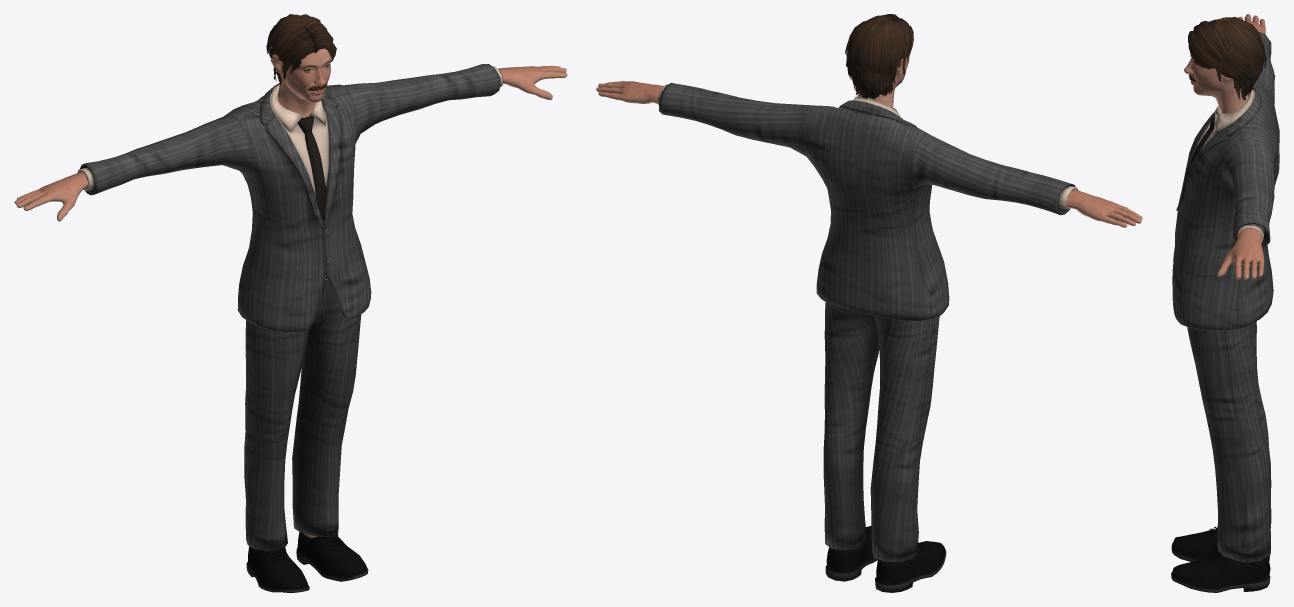
File: poe2.obj
3 renders of one model, left to right at view 1: azimuth 30°, elevation 25°; view 2: azimuth 150°, elevation 25°; view 3: azimuth 270°, elevation 25°, orthographic.
Visible parts, largest first — view 1: Tops, Bottoms, Body, Shoes, Hair; view 2: Tops, Bottoms, Hair, Shoes, Body; view 3: Tops, Bottoms, Hair, Shoes, Body.
Part boxes in pixels (<box>): Tops: <box>77,64,503,332</box>; Bottoms: <box>244,266,361,551</box>; Body: <box>14,18,567,537</box>; Shoes: <box>246,532,368,592</box>; Hair: <box>266,14,336,85</box>; Tops: <box>657,83,1078,321</box>; Bottoms: <box>823,302,939,562</box>; Hair: <box>845,14,913,98</box>; Shoes: <box>825,526,946,592</box>; Body: <box>596,20,1142,227</box>; Tops: <box>1172,32,1279,330</box>; Bottoms: <box>1187,321,1271,562</box>; Hair: <box>1188,17,1266,100</box>; Shoes: <box>1171,527,1270,592</box>; Body: <box>1184,14,1265,279</box>.
Bounding box in the file's own units: 187 × 181 × 32.29.
Materials: 1 (1 with a texture image).
